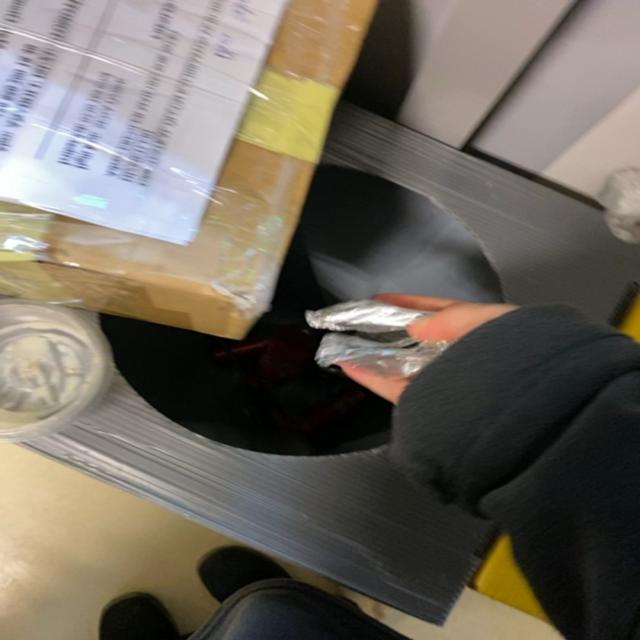bin: (21, 102, 639, 624)
metal: (306, 299, 450, 377)
